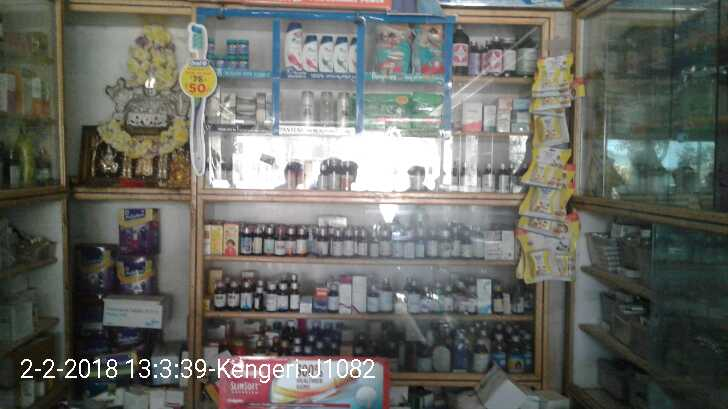beauty: (283, 20, 305, 73), (332, 34, 357, 74), (235, 90, 253, 131), (316, 34, 335, 72), (298, 89, 315, 128), (303, 33, 320, 71), (319, 86, 334, 128), (336, 91, 353, 127), (220, 87, 234, 128), (253, 92, 271, 123)
pharmacy: (374, 22, 410, 78), (409, 23, 447, 76), (360, 92, 411, 131), (410, 84, 445, 128), (210, 36, 250, 71)
